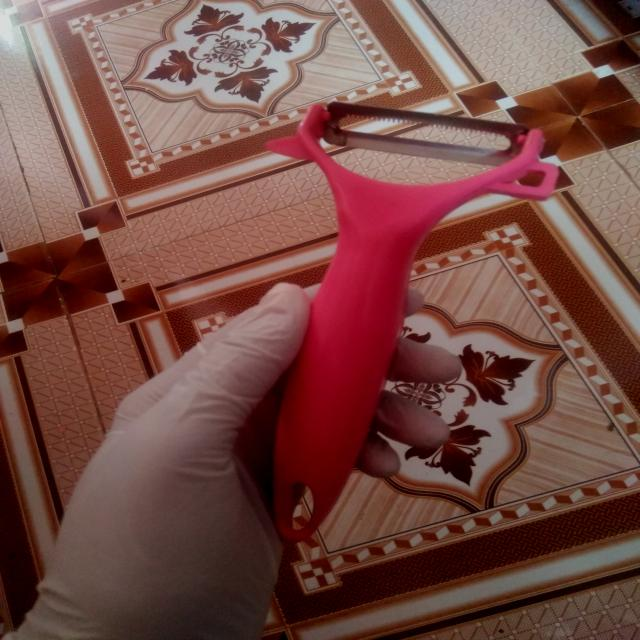glove: (16, 278, 467, 639)
